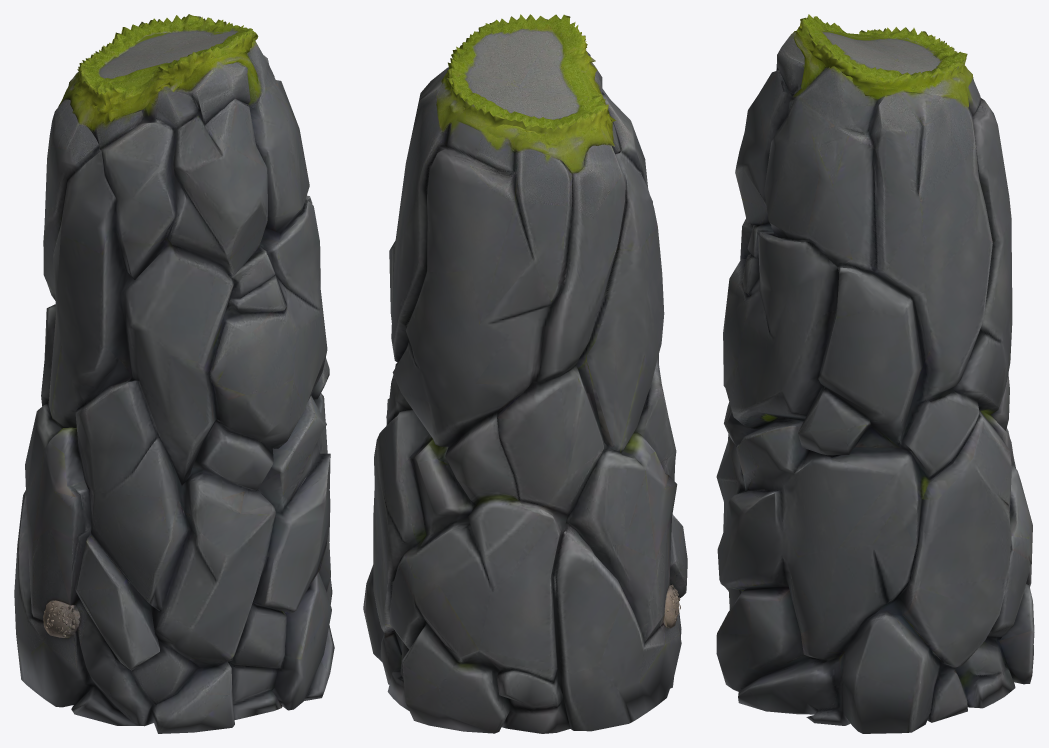
Rendered from cliff_rock.glb.
The picture shows the model from 3 angles, left to right: view 1: azimuth 30°, elevation 25°; view 2: azimuth 150°, elevation 25°; view 3: azimuth 270°, elevation 25°; orthographic projection.
Size of the model in its own units: 0.4468 by 0.9531 by 0.4253.
Materials: 1 (1 with a texture image).
